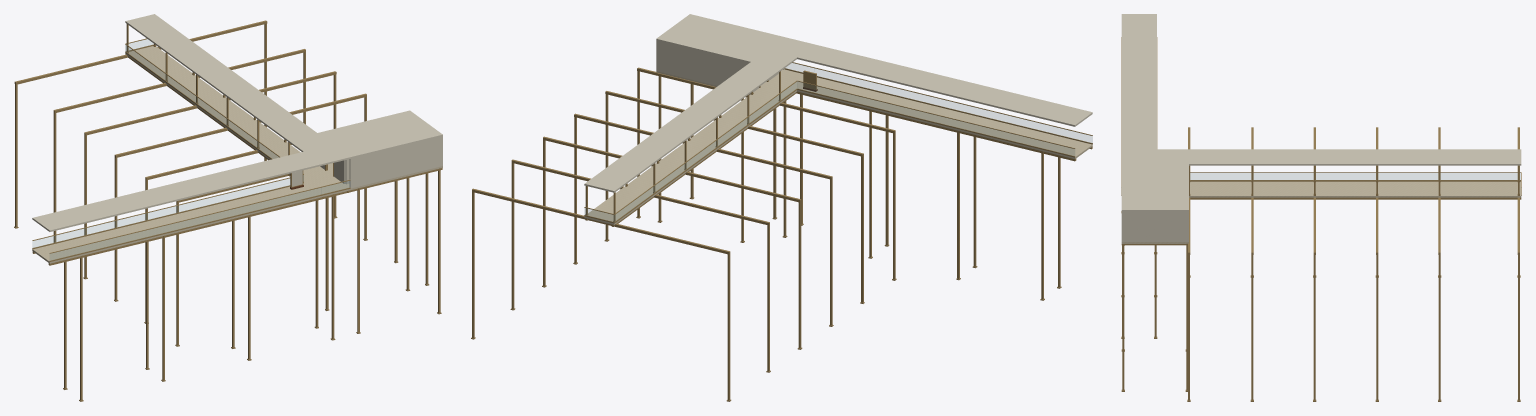
The model's file is D04_STARBOARD_NORTH_RECEIVING_r001.glb.
3 renders of one model, left to right at view 1: azimuth 30°, elevation 25°; view 2: azimuth 150°, elevation 25°; view 3: azimuth 270°, elevation 25°, orthographic. The views are drawn at different scales.
Parts seen in each view (by area): view 1: D04SF_NorthReceivingRoof, D04SF_NorthReceivingFloor, D04SF_ServiceNorthWall, D04SF_OuterGuard_04, D04SF_OuterGuard_02, D04SF_OuterGuard_01, D04SF_StreetTransfer_-333.7, D04SF_StreetTransfer_-316.9, D04SF_StreetTransfer_-324.3, D04SF_StreetTransfer_-309.5, D04SF_ArrivalLong_-286.75, D04SF_KeelBearingPier_07 (+20 smaller); view 2: D04SF_NorthReceivingRoof, D04SF_NorthReceivingFloor, D04SF_ServiceSouthWall, D04SF_OuterGuard_02, D04SF_OuterGuard_04, D04SF_OuterGuard_01, D04SF_StreetTransfer_-333.7, D04SF_StreetTransfer_-309.5, D04SF_StreetTransfer_-316.9, D04SF_StreetTransfer_-324.3, D04SF_StreetTransfer_-302.1, D04SF_StreetTransfer_-294.6 (+6 smaller); view 3: D04SF_NorthReceivingRoof, D04SF_NorthReceivingFloor, D04SF_OuterGuard_01, D04SF_ServiceEastWall, D04SF_StreetLong_45.8, D04SF_OuterGuard_01_Base, D04SF_KeelBearingPier_17, D04SF_KeelBearingPier_18, D04SF_KeelBearingPier_15, D04SF_KeelBearingPier_16, D04SF_KeelBearingPier_23.
Boxes of the visible parts, x1,y1,x2,y2 form: D04SF_NorthReceivingRoof: (32, 14, 442, 231); D04SF_NorthReceivingFloor: (32, 46, 442, 263); D04SF_ServiceNorthWall: (349, 136, 442, 188); D04SF_OuterGuard_04: (50, 188, 320, 260); D04SF_OuterGuard_02: (32, 179, 289, 247); D04SF_OuterGuard_01: (126, 45, 278, 158); D04SF_StreetTransfer_-333.7: (14, 21, 267, 84); D04SF_StreetTransfer_-316.9: (84, 71, 336, 135); D04SF_StreetTransfer_-324.3: (53, 49, 305, 113); D04SF_StreetTransfer_-309.5: (115, 93, 366, 157); D04SF_ArrivalLong_-286.75: (48, 194, 335, 265); D04SF_KeelBearingPier_07: (331, 196, 334, 339); D04SF_NorthReceivingRoof: (584, 14, 1092, 192); D04SF_NorthReceivingFloor: (584, 69, 1092, 224); D04SF_ServiceSouthWall: (656, 40, 748, 85); D04SF_OuterGuard_02: (797, 82, 1074, 155); D04SF_OuterGuard_04: (815, 69, 1092, 142); D04SF_OuterGuard_01: (615, 82, 796, 220); D04SF_StreetTransfer_-333.7: (472, 189, 730, 254); D04SF_StreetTransfer_-309.5: (574, 114, 832, 179); D04SF_StreetTransfer_-316.9: (543, 137, 801, 202); D04SF_StreetTransfer_-324.3: (511, 160, 769, 225); D04SF_StreetTransfer_-302.1: (605, 91, 863, 156); D04SF_StreetTransfer_-294.6: (637, 68, 895, 133); D04SF_NorthReceivingRoof: (1121, 14, 1521, 211); D04SF_NorthReceivingFloor: (1121, 181, 1521, 243); D04SF_OuterGuard_01: (1190, 173, 1520, 179); D04SF_ServiceEastWall: (1121, 211, 1188, 241); D04SF_StreetLong_45.8: (1190, 197, 1521, 199); D04SF_OuterGuard_01_Base: (1190, 180, 1520, 181); D04SF_KeelBearingPier_17: (1313, 251, 1315, 400); D04SF_KeelBearingPier_18: (1251, 251, 1253, 400); D04SF_KeelBearingPier_15: (1438, 251, 1440, 400); D04SF_KeelBearingPier_16: (1376, 251, 1378, 400); D04SF_KeelBearingPier_23: (1122, 246, 1124, 390).
Size of the model in its own units: 57.6 by 23.9 by 47.49.
Materials: 10 (8 with a texture image).
